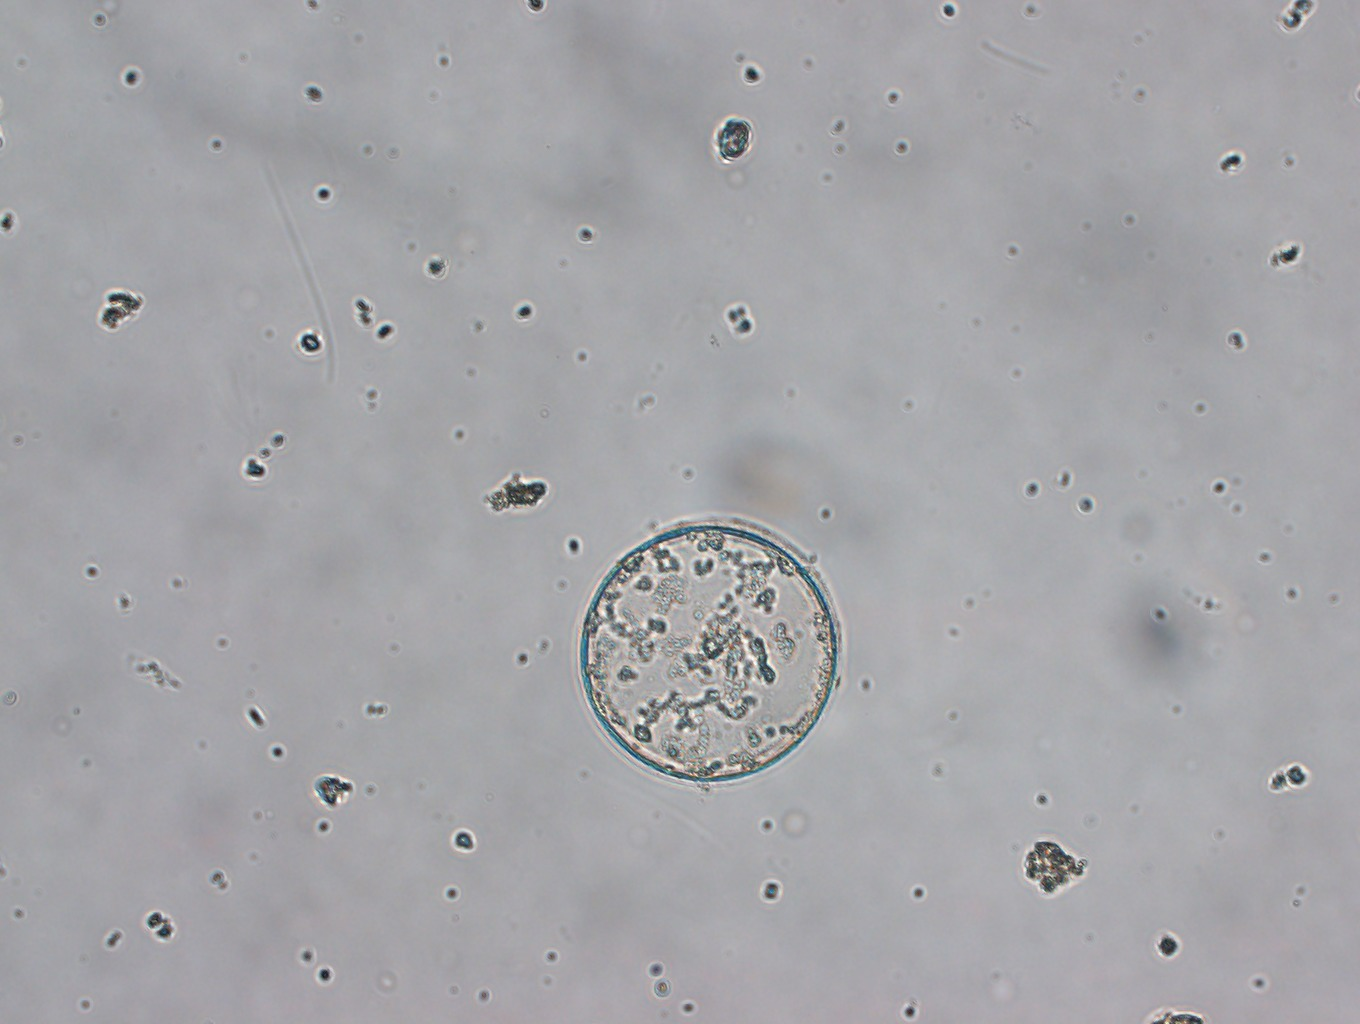coscinodiscus: (569, 509, 840, 793)
